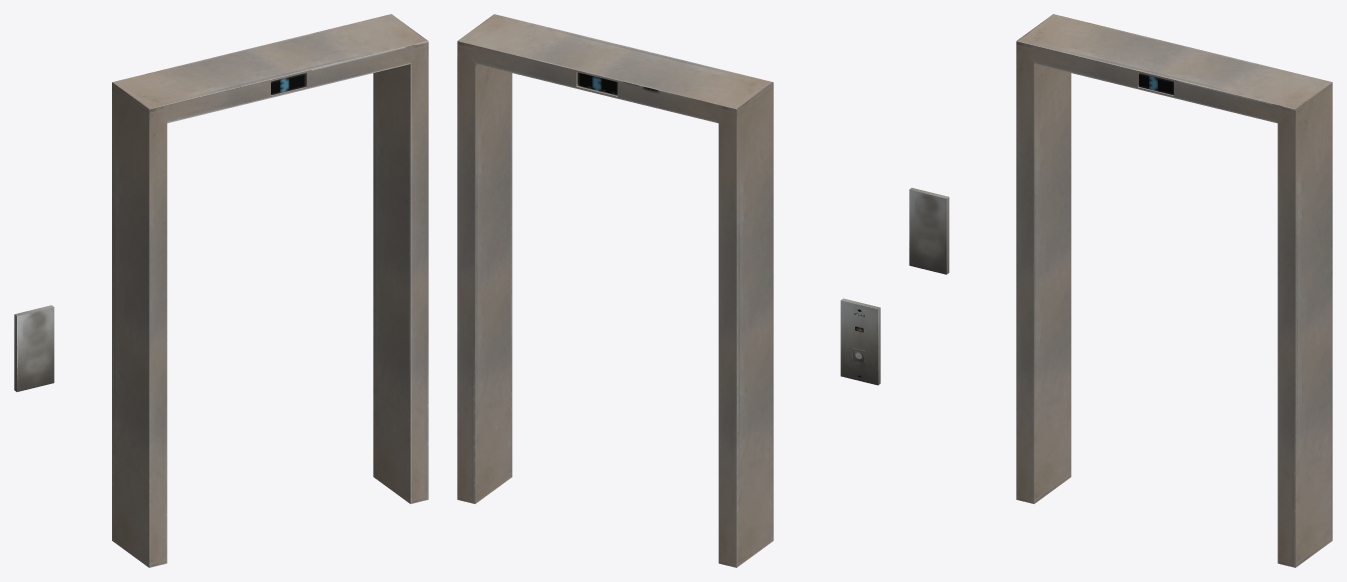
Rendered from PortaElevador.glb.
3 renders of one model, left to right at view 1: azimuth 30°, elevation 25°; view 2: azimuth 150°, elevation 25°; view 3: azimuth 330°, elevation 25°, orthographic.
Visible parts, largest first — view 1: ElevatorFrame-col, Button.001; view 2: ElevatorFrame-col, Button.001; view 3: ElevatorFrame-col, Button.001.
Part boxes in pixels (x1,y1,x2,y2): ElevatorFrame-col: (112, 14, 428, 567); Button.001: (14, 305, 54, 391); ElevatorFrame-col: (457, 14, 773, 567); Button.001: (840, 298, 880, 385); ElevatorFrame-col: (1016, 14, 1332, 567); Button.001: (909, 188, 949, 274).
Bounding box in the file's own units: 2.14 × 2.35 × 0.3449.
Materials: 2 (2 with a texture image).
